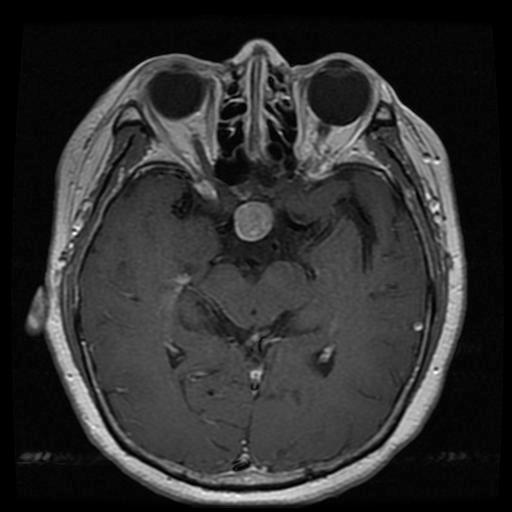Tumour-Pituitary: (230, 199, 282, 245)
